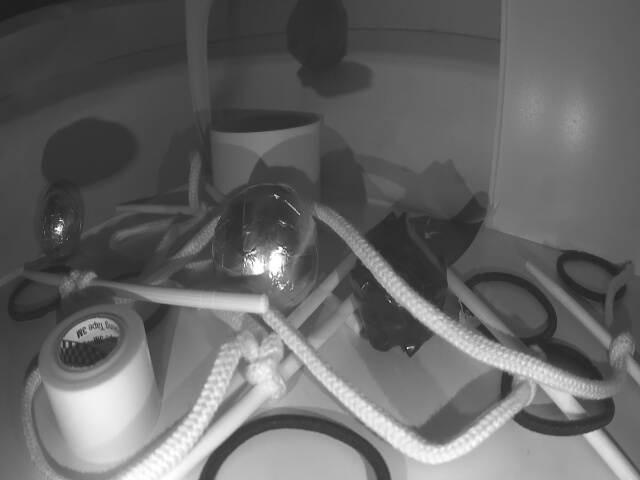Dead: (350, 221, 444, 350)
Live: (215, 185, 321, 316), (32, 187, 88, 266)
